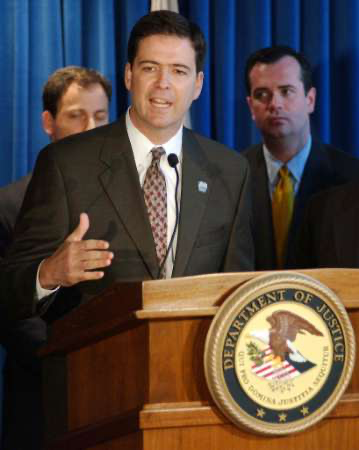Face: (130, 46, 198, 135), (55, 86, 114, 152), (248, 75, 305, 142)
